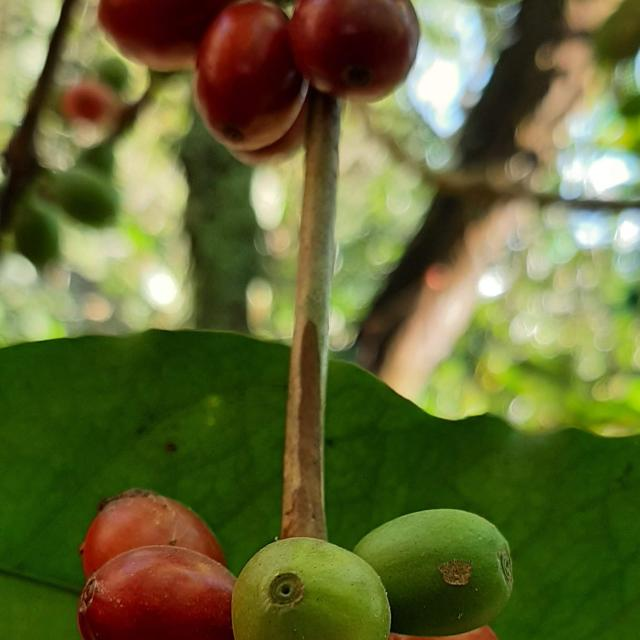green: (354, 510, 514, 637), (232, 538, 391, 640)
red: (195, 0, 307, 150), (76, 546, 235, 640), (78, 489, 227, 580), (289, 0, 420, 100), (97, 0, 232, 70), (229, 103, 307, 165)
